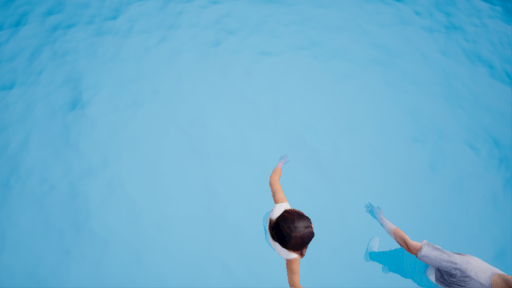person: (359, 202, 512, 285), (253, 158, 323, 288)
